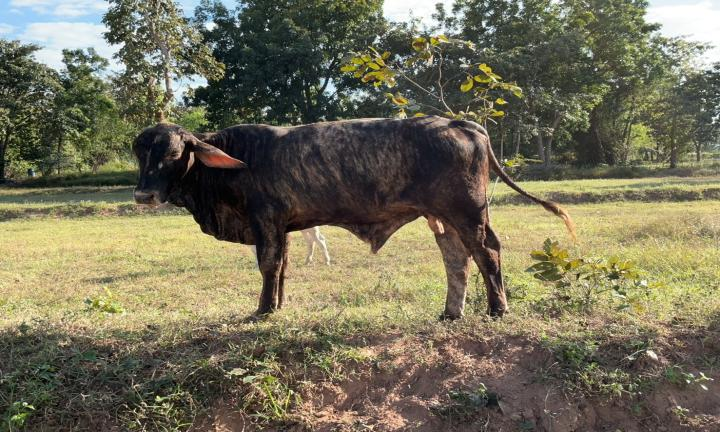Charolais: (133, 115, 574, 319)
